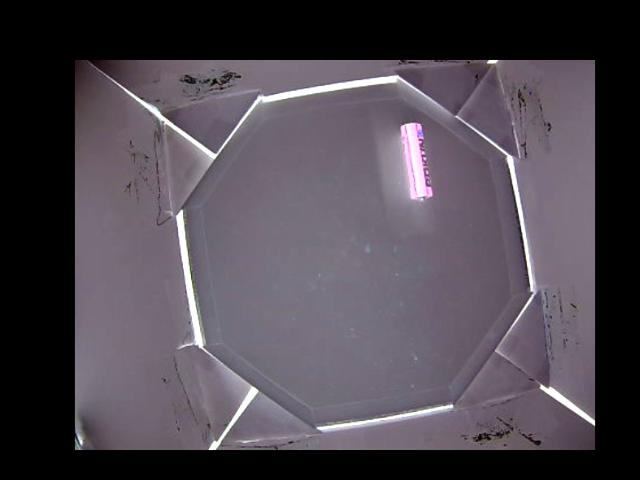Battery: (397, 121, 433, 200)
